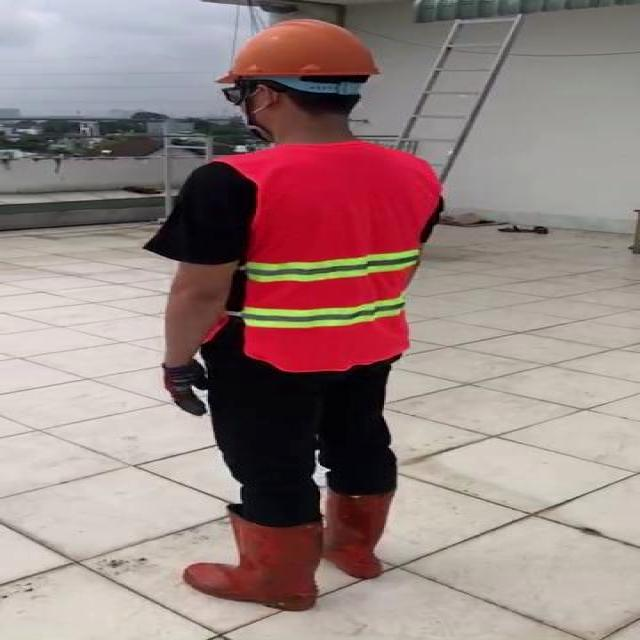boots: (185, 510, 325, 612), (326, 488, 398, 580)
hand_glove: (163, 361, 210, 417)
head_helmet: (222, 17, 382, 85)
person: (146, 16, 452, 613)
vest: (226, 143, 441, 372)
